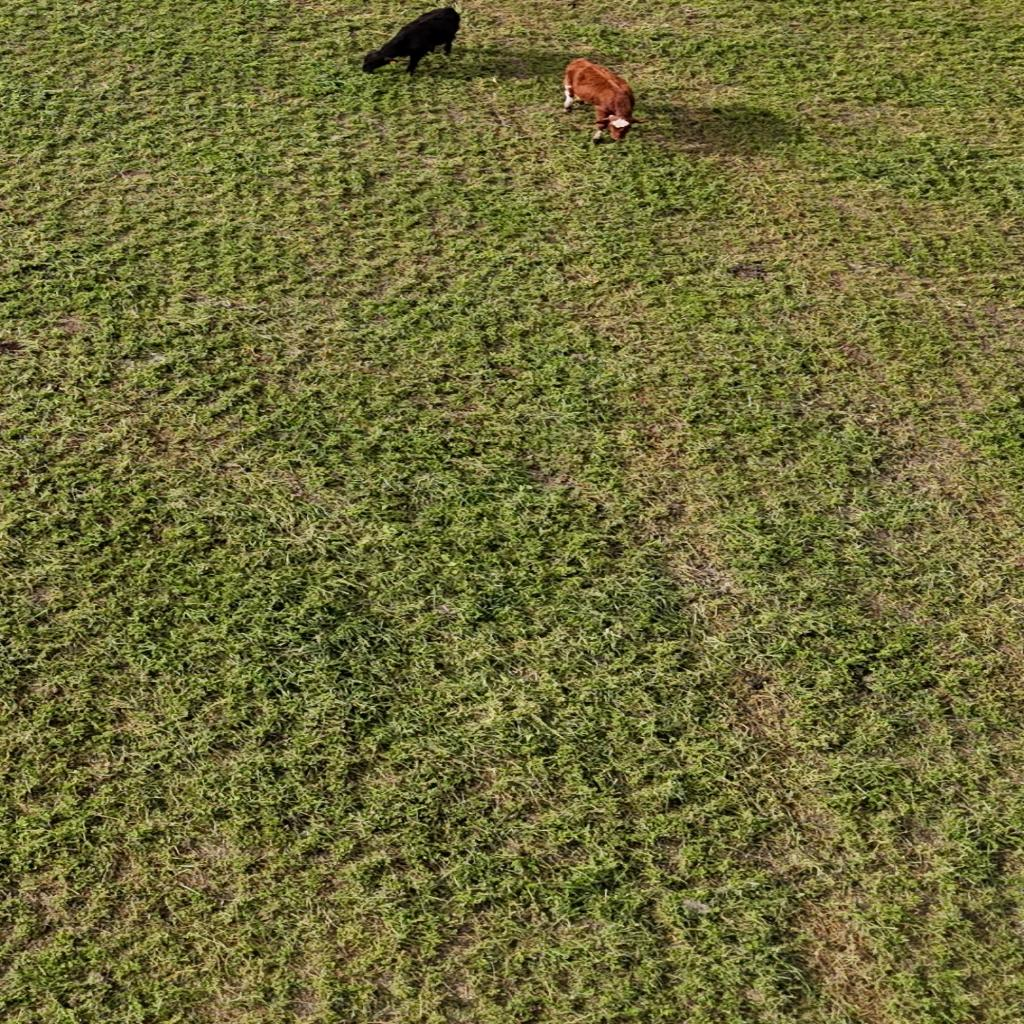cow: (560, 56, 656, 144), (357, 4, 466, 76)
